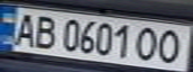0: (57, 16, 81, 53), (93, 20, 115, 56)
1: (112, 21, 136, 60)
6: (78, 18, 100, 55)
A: (9, 10, 39, 47)
B: (30, 12, 60, 51)
O: (154, 27, 187, 64), (133, 25, 163, 62)
